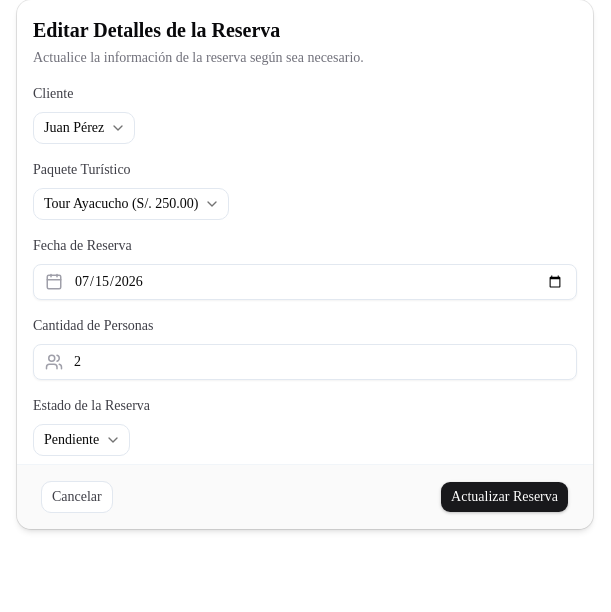
ReservationForm › muestra error genérico si ocurre excepción
Click the button "Actualizar Reserva". click: x=505, y=497
box: [440, 481, 569, 513]
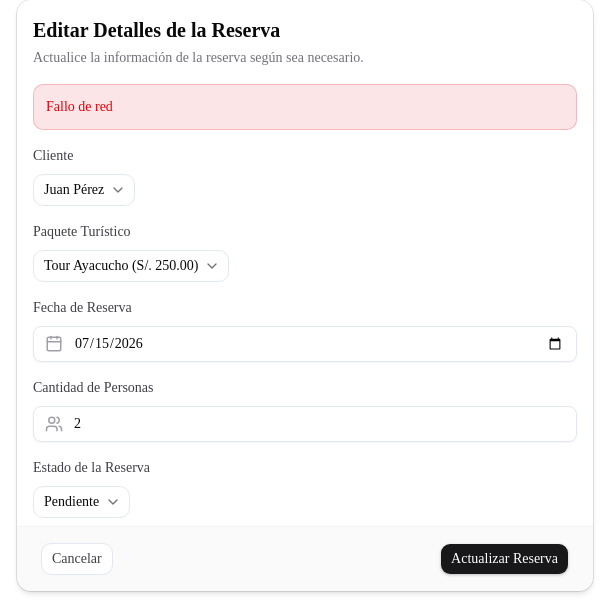
Expected: the text "Fallo de red" is shown, [33, 84, 577, 130]
